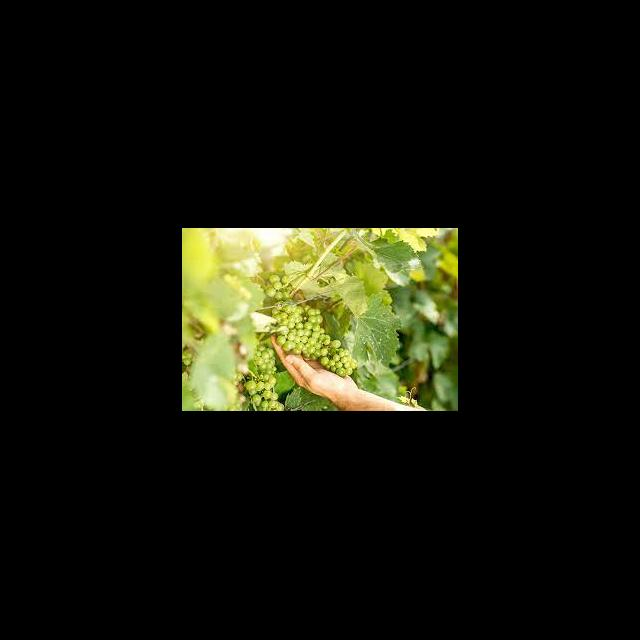grape: (252, 270, 358, 378)
